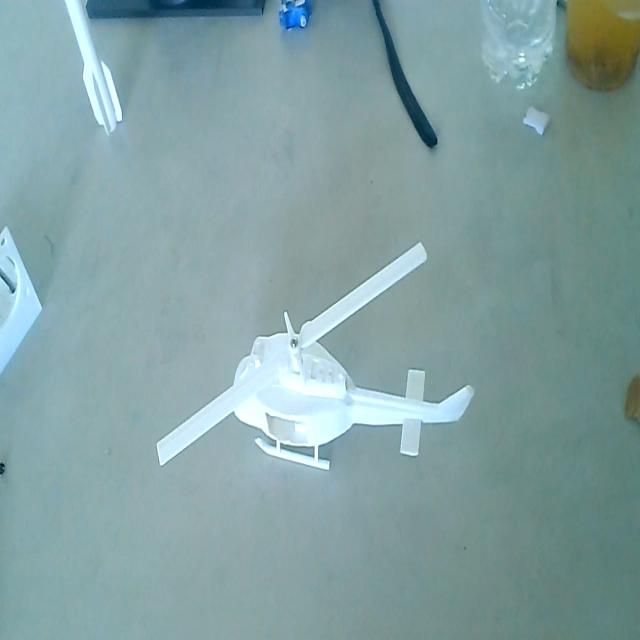Helicopter: (156, 243, 476, 498)
Rocket: (58, 0, 128, 138)
